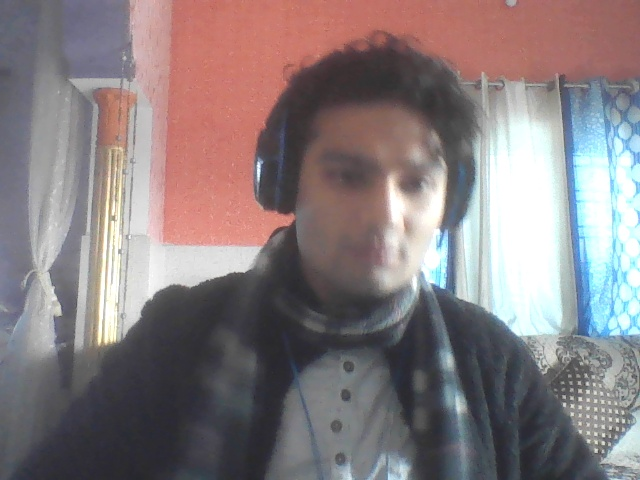real: (268, 36, 469, 321)
